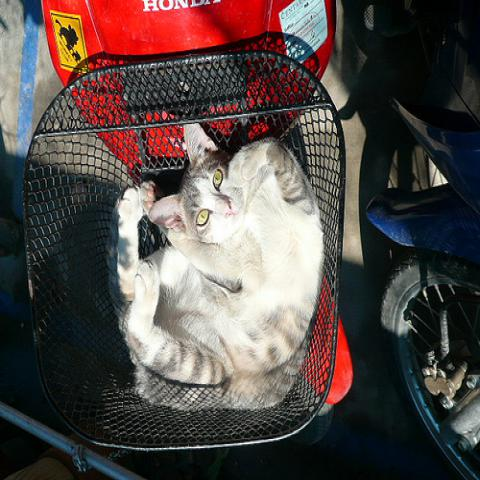motorcycle: (335, 0, 478, 326), (366, 92, 479, 474)
